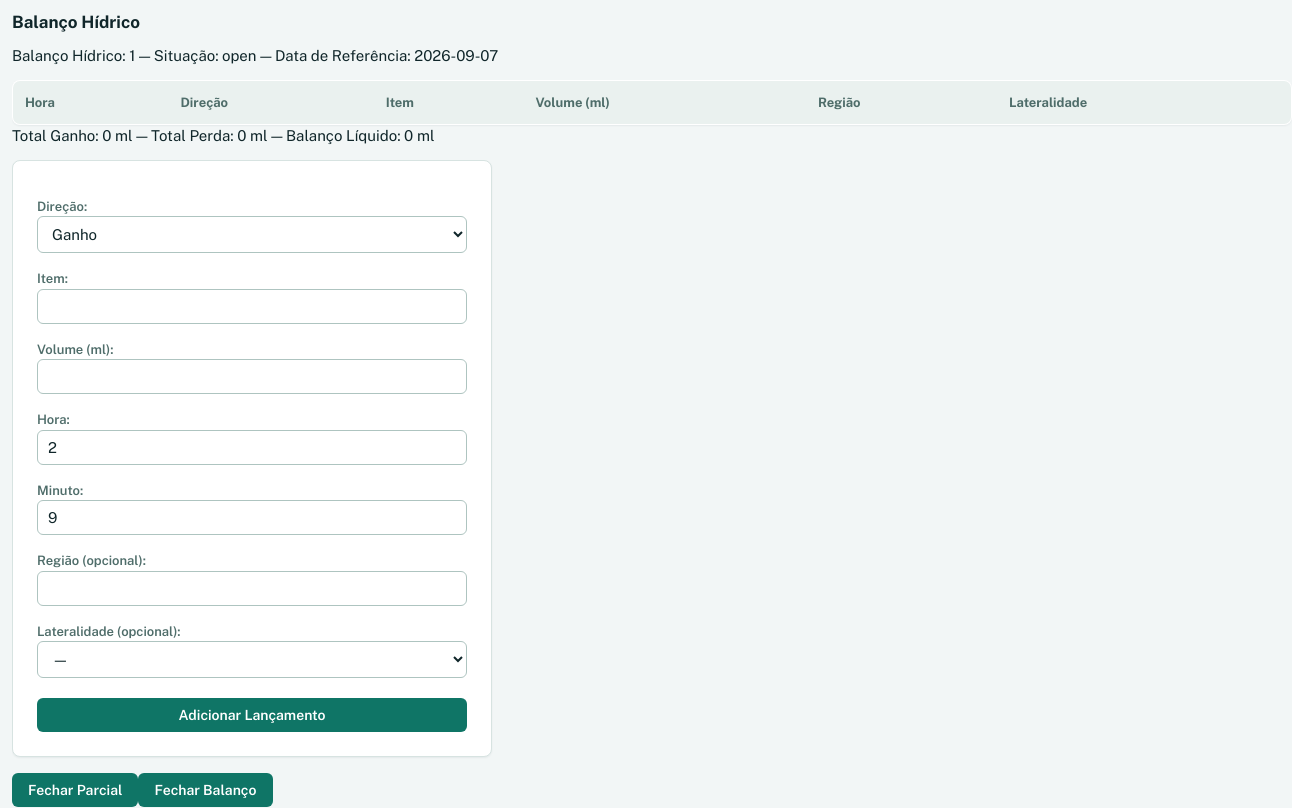
Scenario: FluidBalanceModal Component Test › cria/carrega o período corrente, lança um item e atualiza os totais
Expected: the text with test id "fluid-balance-header" shows "Balanço Hídrico: 1", [12,47,498,64]
Type "Soro Fisiológico 0,9%" into the field with test id "item-name-input" at (252, 306), box [37,289,467,324]
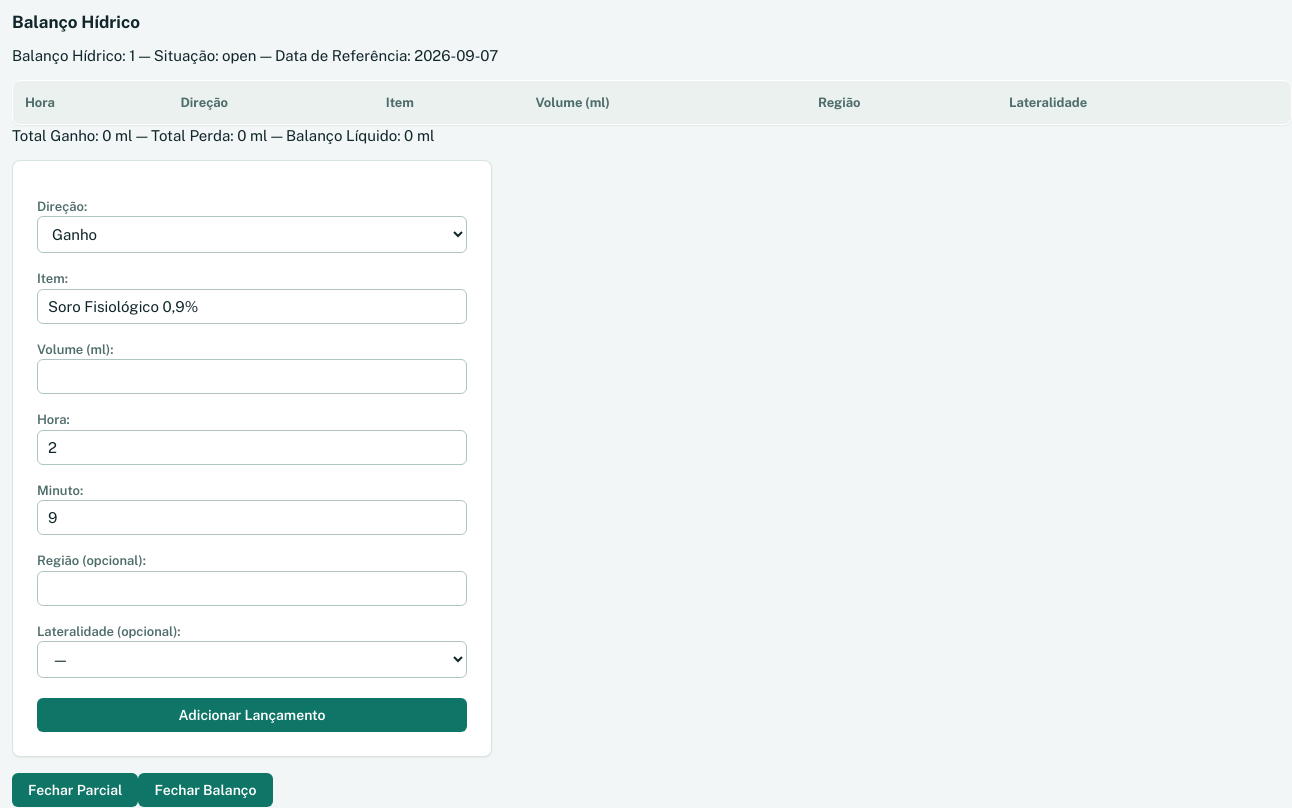
Type "200" into the number field with test id "volume-input" at (252, 377), box [37,359,467,394]
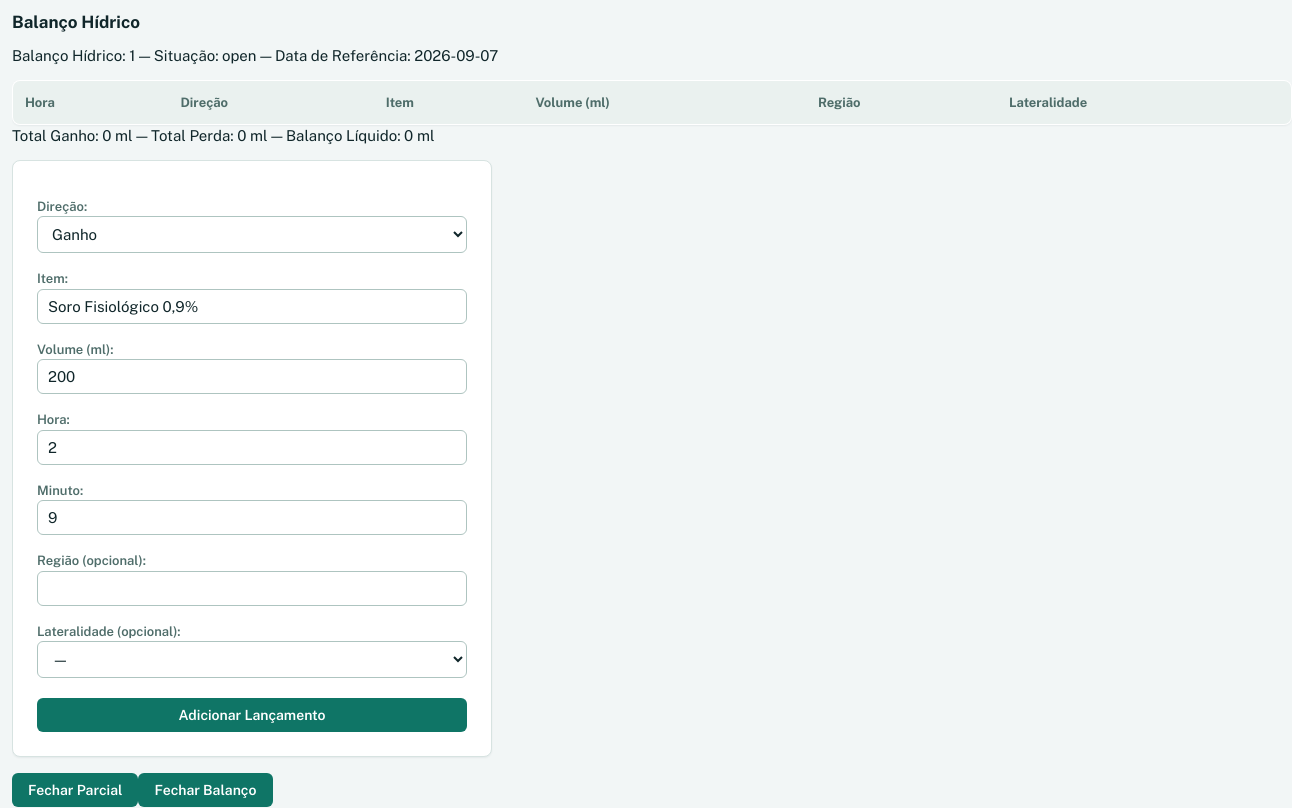
Click the button with test id "add-entry-btn" at (252, 715), box [37,698,467,732]
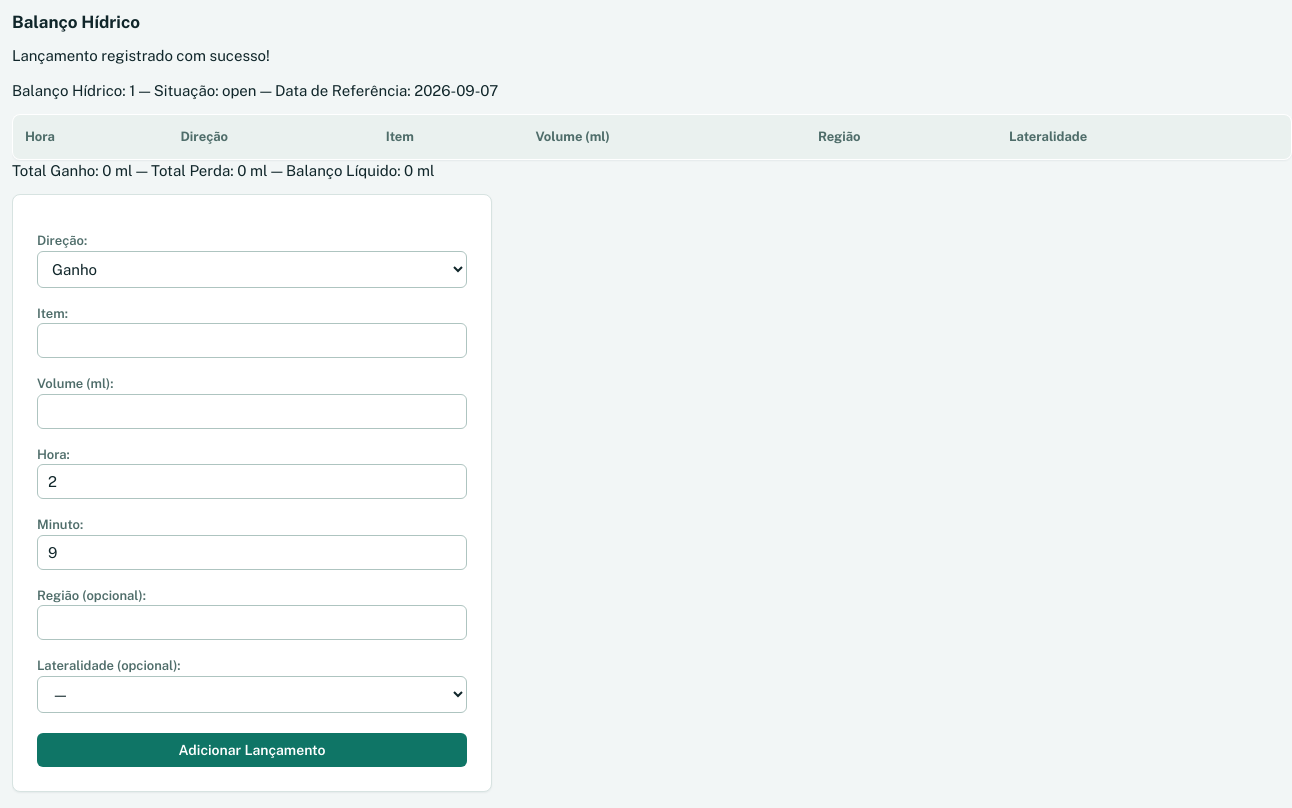
Result: the text with test id "fluid-balance-msg" reads "Lançamento registrado com sucesso!" at [12,47,270,64]
